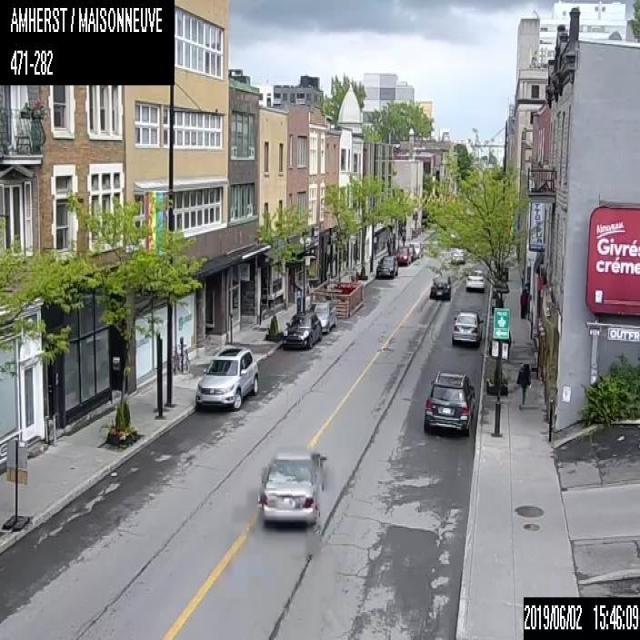pedestrian: (515, 359, 532, 405), (518, 285, 530, 320)
vehicle: (258, 445, 326, 527), (194, 342, 259, 410), (422, 370, 475, 438), (282, 310, 322, 350), (451, 309, 483, 347), (305, 299, 336, 332), (429, 276, 452, 299), (376, 255, 398, 278), (464, 269, 484, 290), (396, 246, 411, 264), (450, 248, 465, 263), (408, 241, 422, 257), (405, 244, 415, 260)
